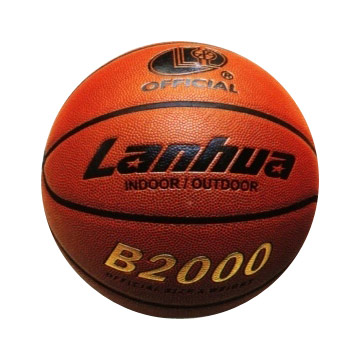basketball: (41, 40, 320, 319)
